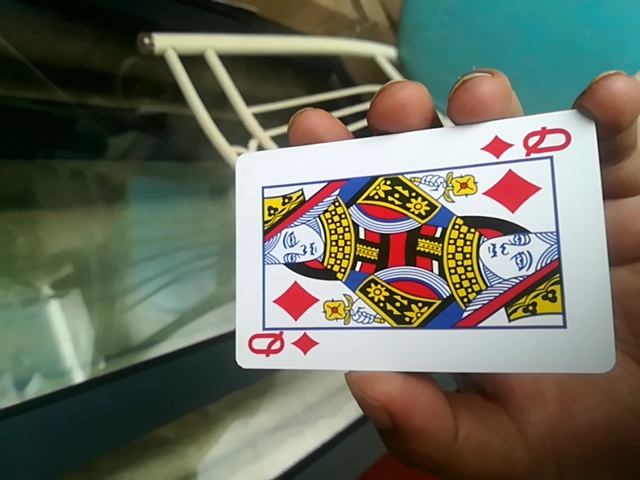fk q: (230, 109, 617, 378)
